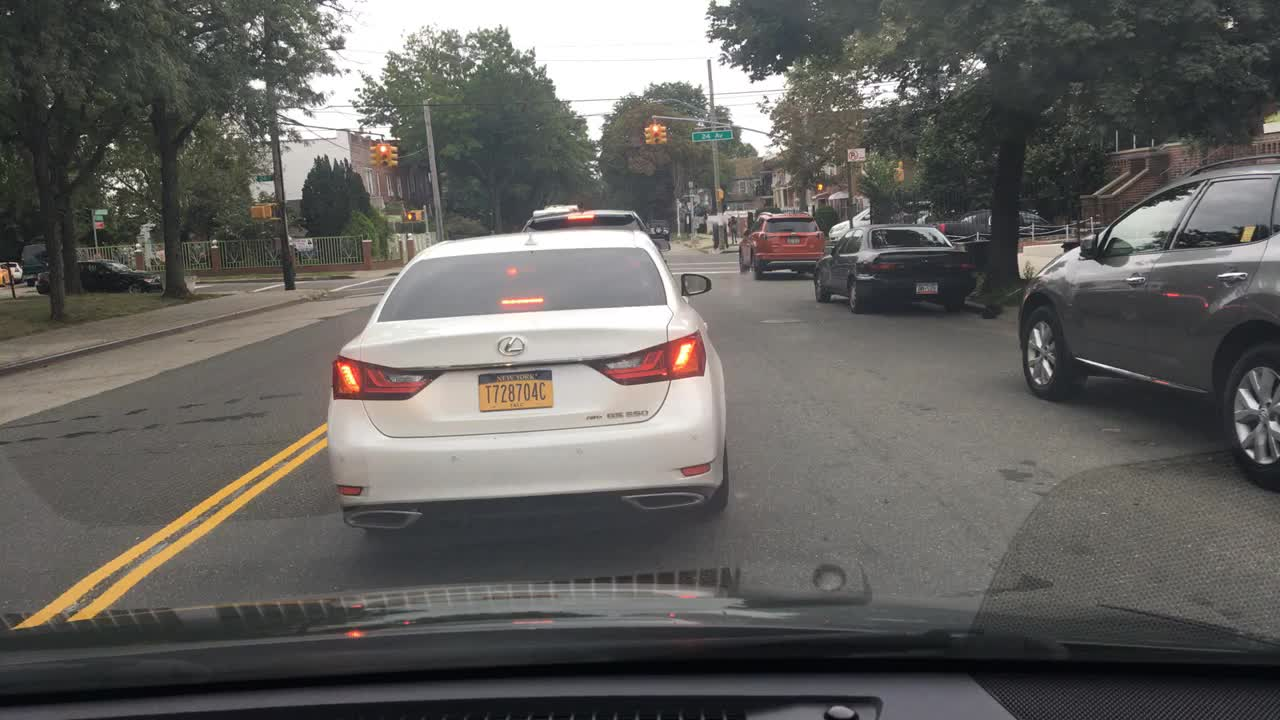car: (327, 227, 729, 540), (1017, 153, 1279, 490), (813, 225, 977, 313), (524, 203, 670, 253), (740, 211, 822, 280), (35, 259, 161, 292), (937, 208, 1052, 235), (828, 205, 870, 238), (891, 197, 931, 223), (19, 245, 44, 284), (647, 217, 672, 239), (2, 260, 22, 281), (0, 265, 7, 289)
person: (729, 214, 738, 244)
traffic light: (377, 142, 389, 171), (248, 205, 271, 215), (404, 209, 422, 221), (649, 123, 658, 147), (390, 145, 398, 167), (658, 124, 667, 142), (369, 145, 375, 169), (644, 125, 649, 145), (717, 188, 724, 200)
traffic sign: (690, 129, 732, 142), (846, 148, 867, 162), (256, 172, 272, 181), (95, 223, 107, 231), (94, 208, 109, 214), (94, 214, 106, 220)
